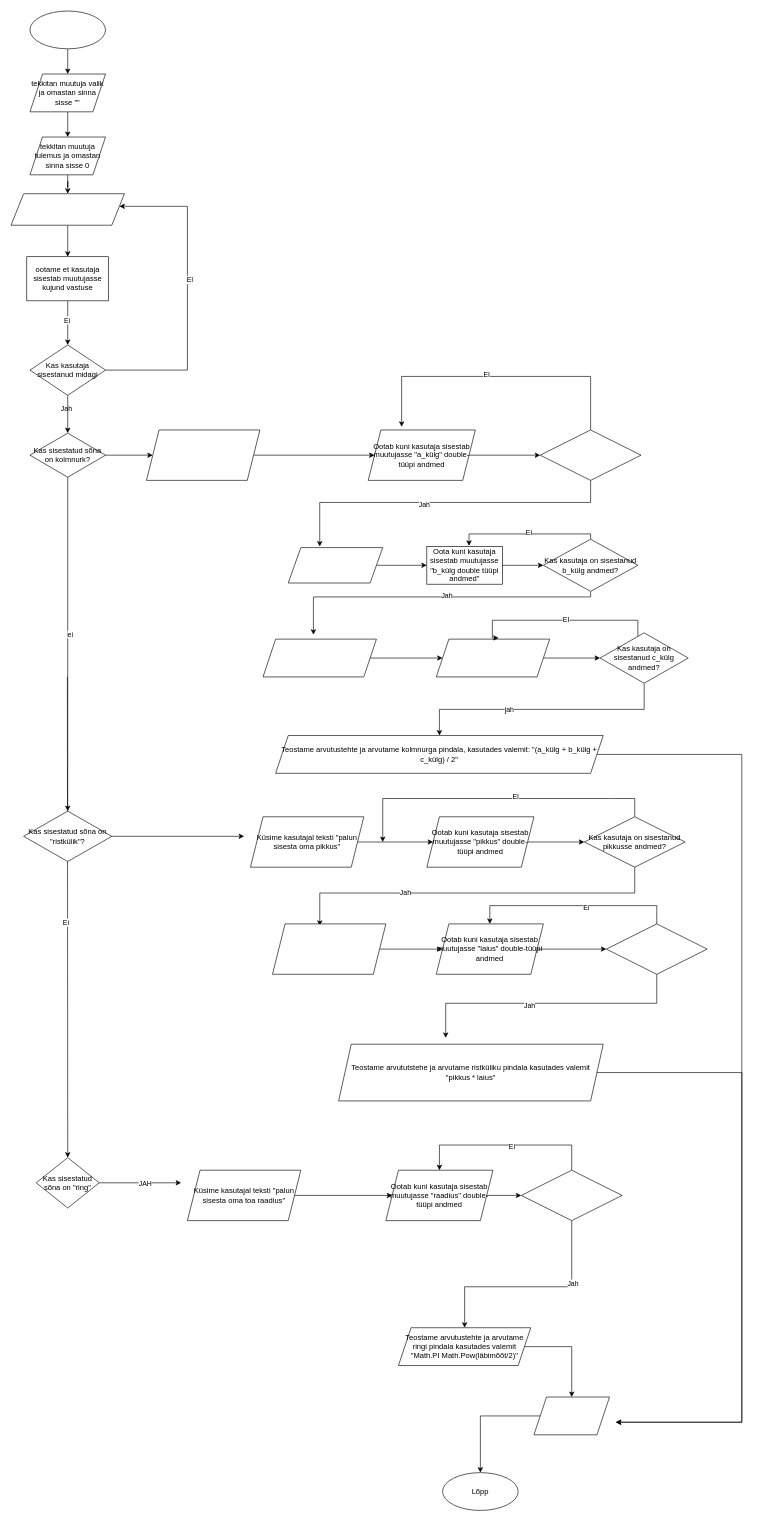
This 758x1521 diagram has some shape labels left out. Each missing label, with the centre of its shape:
Algus: pixel 67 29
Kas kasutaja on sisestanud A_külg andmed?: pixel 590 454
Kas kasutaja on sisestanud laiusse andmed?: pixel 656 948
Kas kasutaja on sisestanud raadiuse andmed?: pixel 571 1195
Kuva kasutajale küsimus kas su tuba on kolmnurg, ristkülik,ring: pixel 67 209
Kuva kasutajale tekst "Palun sisesta oma toa kolmas külg": pixel 319 658
Kuva kasutajale tekst "Palun sisesta oma toa teine külg: pixel 335 565
Kuva kasutajale tulemuse lausega "Sinu toa pindala on (tulemus)": pixel 571 1415
Küsime kasutajal teksti "palun sisesta oma toa esimene külg": pixel 203 454
Küsime kasutajal teksti "palun sisesta oma toa laius": pixel 329 948
Oota kuni kasutaja sisestab muutujasse "c_külg double tüüpi andmed": pixel 493 658
